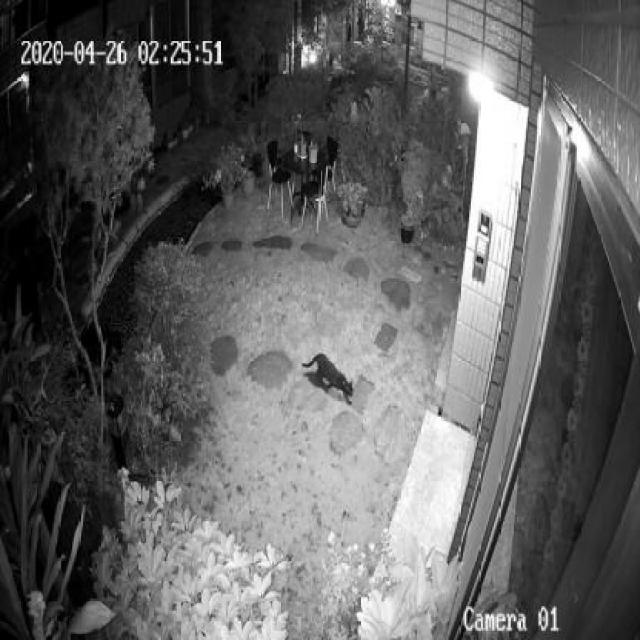animals: (296, 344, 364, 418)
